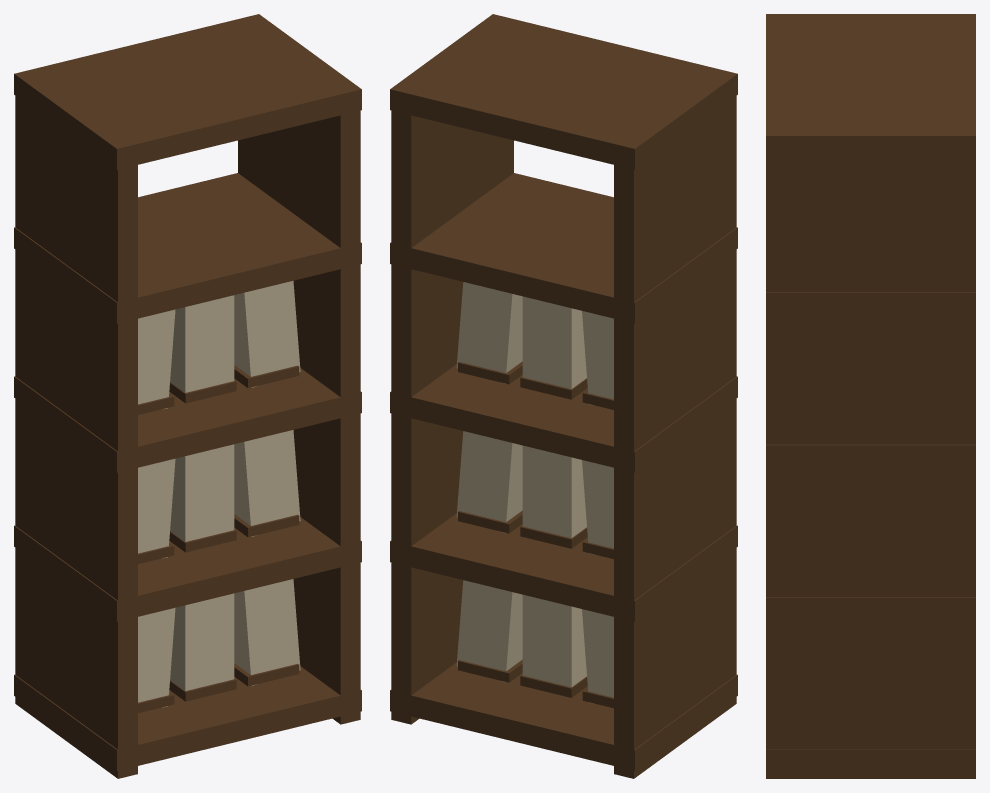
File: bookcase_short_80s.glb
The picture shows the model from 3 angles, left to right: view 1: azimuth 30°, elevation 25°; view 2: azimuth 150°, elevation 25°; view 3: azimuth 270°, elevation 25°; orthographic projection. The views are drawn at different scales.
Visible parts, largest first — view 1: wood__side, _MeshInstance3D_28, _MeshInstance3D_32, _MeshInstance3D_31, wood__shelf, _MeshInstance3D_29, _MeshInstance3D_30, _MeshInstance3D_41, _MeshInstance3D_35, _MeshInstance3D_47, _MeshInstance3D_45, _MeshInstance3D_33 (+10 smaller); view 2: wood__side, _MeshInstance3D_28, _MeshInstance3D_32, _MeshInstance3D_31, wood__shelf, _MeshInstance3D_29, _MeshInstance3D_30, _MeshInstance3D_45, _MeshInstance3D_33, _MeshInstance3D_39, _MeshInstance3D_41, _MeshInstance3D_35 (+10 smaller); view 3: _MeshInstance3D_28, _MeshInstance3D_32, wood__shelf, _MeshInstance3D_30, _MeshInstance3D_31, _MeshInstance3D_29.
Boxes of the visible parts, left/top/right/bottom form: wood__side: left=15, top=96, right=137, bottom=778; _MeshInstance3D_28: left=238, top=91, right=360, bottom=724; _MeshInstance3D_32: left=14, top=14, right=361, bottom=169; _MeshInstance3D_31: left=14, top=173, right=361, bottom=323; wood__shelf: left=14, top=666, right=361, bottom=770; _MeshInstance3D_29: left=14, top=517, right=361, bottom=621; _MeshInstance3D_30: left=14, top=368, right=361, bottom=472; _MeshInstance3D_41: left=234, top=430, right=300, bottom=536; _MeshInstance3D_35: left=234, top=579, right=300, bottom=685; _MeshInstance3D_47: left=234, top=281, right=300, bottom=387; _MeshInstance3D_45: left=170, top=295, right=234, bottom=392; _MeshInstance3D_33: left=170, top=593, right=234, bottom=690; wood__side: left=614, top=96, right=736, bottom=778; _MeshInstance3D_28: left=391, top=91, right=513, bottom=724; _MeshInstance3D_32: left=390, top=14, right=737, bottom=169; _MeshInstance3D_31: left=390, top=173, right=737, bottom=323; wood__shelf: left=390, top=662, right=737, bottom=770; _MeshInstance3D_29: left=390, top=513, right=737, bottom=621; _MeshInstance3D_30: left=390, top=364, right=737, bottom=472; _MeshInstance3D_45: left=522, top=296, right=586, bottom=388; _MeshInstance3D_33: left=522, top=594, right=586, bottom=687; _MeshInstance3D_39: left=522, top=445, right=586, bottom=538; _MeshInstance3D_41: left=456, top=431, right=522, bottom=533; _MeshInstance3D_35: left=456, top=580, right=522, bottom=682; _MeshInstance3D_28: left=766, top=157, right=975, bottom=778; _MeshInstance3D_32: left=766, top=14, right=975, bottom=157; wood__shelf: left=766, top=749, right=975, bottom=771; _MeshInstance3D_30: left=766, top=444, right=975, bottom=466; _MeshInstance3D_31: left=766, top=292, right=975, bottom=314; _MeshInstance3D_29: left=766, top=597, right=975, bottom=618.
Bounding box in the file's own units: 0.55 × 1.35 × 0.4.
